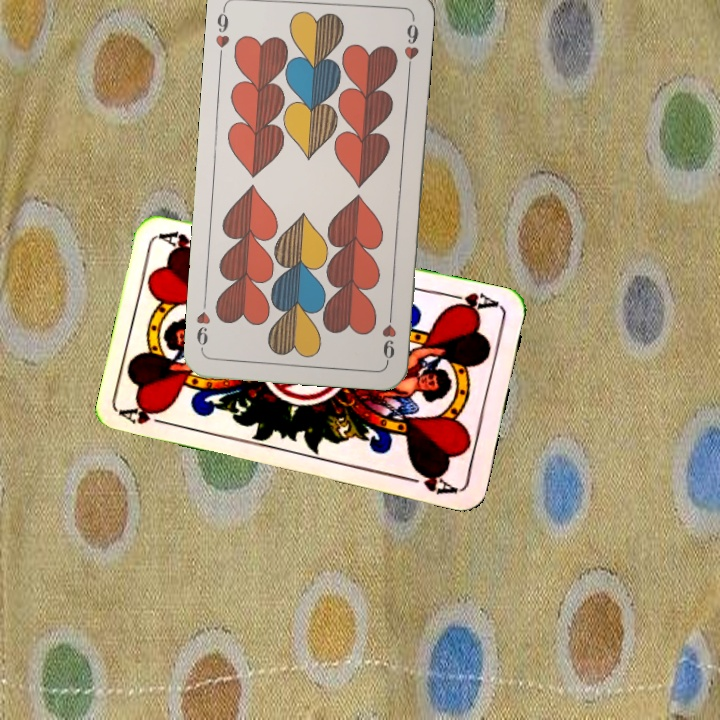H9: (378, 305, 399, 364), (211, 3, 232, 62)
HA: (443, 288, 502, 316), (119, 403, 178, 429)
